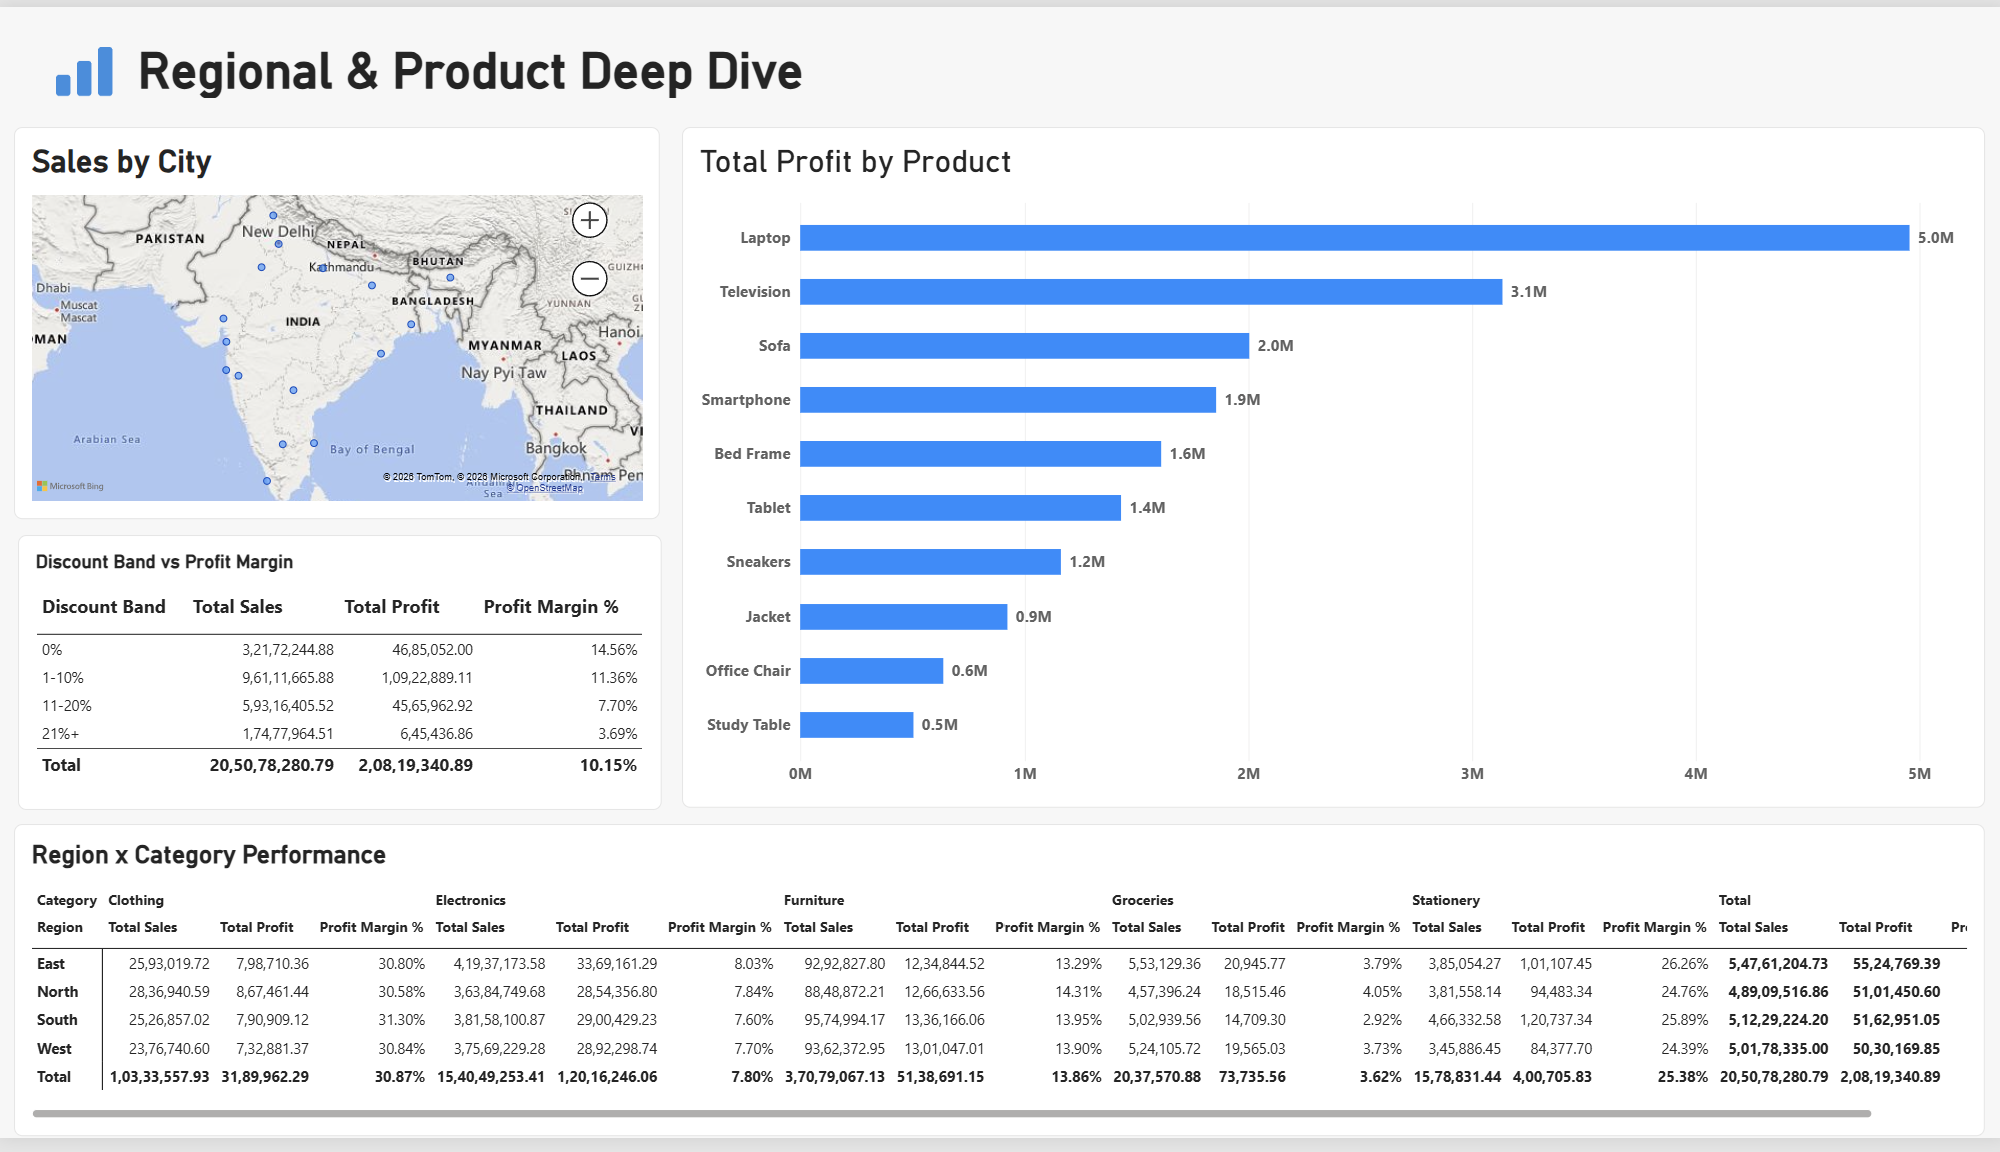

What the dashboard file says about the page in this screenshot:
{"tool":"powerbi","page":{"name":"Regional & Product","canvas":[1920,1080],"ordinal":1},"visuals":[{"type":"map","title":"Sales by City","fields":{"Category":["Retail_Sales_Raw_Data.City"]},"box":[15,115,617.5,375],"z":0},{"type":"pivotTable","title":"Region x Category Performance","fields":{"Columns":["Retail_Sales_Raw_Data.Category"],"Rows":["Retail_Sales_Raw_Data.Region"],"Values":["Retail_Sales_Raw_Data.Total Sales","Retail_Sales_Raw_Data.Total Profit","Retail_Sales_Raw_Data.Profit Margin %"]},"box":[16.1,780.9,1883.3,298.6],"z":1},{"type":"clusteredBarChart","title":"Total Profit by Product","fields":{"Category":["Retail_Sales_Raw_Data.Product"],"Y":["Retail_Sales_Raw_Data.Total Profit"]},"box":[653.3,115.6,1244.8,650],"z":2},{"type":"tableEx","title":"Discount Band vs Profit Margin","fields":{"Values":["Retail_Sales_Raw_Data.Discount Band","Retail_Sales_Raw_Data.Total Sales","Retail_Sales_Raw_Data.Total Profit","Retail_Sales_Raw_Data.Profit Margin %"]},"box":[18.4,505.3,615.5,261.8],"z":3},{"type":"image","box":[48.2,25.3,68.9,66.6],"z":4},{"type":"textbox","title":"Regional & Product Deep Dive","box":[133.2,32.2,684.4,59.7],"z":5}]}

Visuals, with their boxes in screenshot pixels (x1, y1, x2, y2), scaled from the page's 1920x1080 canvas onto the 2000x1152 screenshot:
"Sales by City" map: <box>16,123,659,523</box>
"Region x Category Performance" pivotTable: <box>17,833,1979,1151</box>
"Total Profit by Product" clusteredBarChart: <box>681,123,1977,817</box>
"Discount Band vs Profit Margin" tableEx: <box>19,539,660,818</box>
image: <box>50,27,122,98</box>
"Regional & Product Deep Dive" textbox: <box>139,34,852,98</box>
